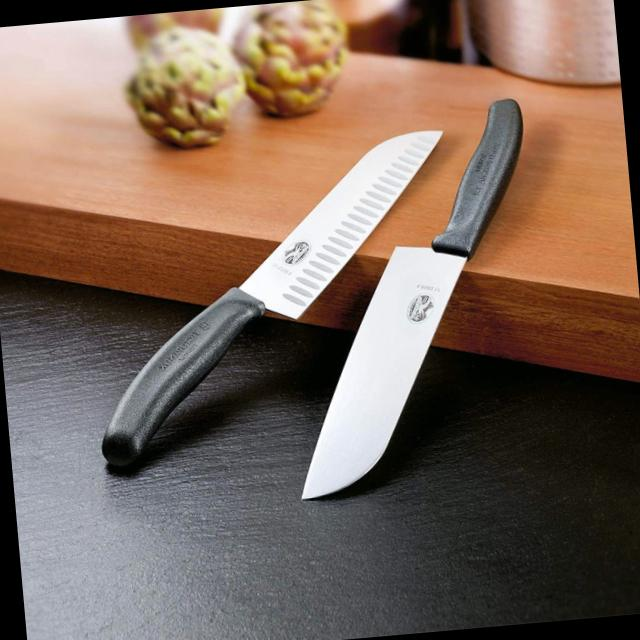Weapon: (74, 121, 472, 488), (258, 93, 562, 512)
